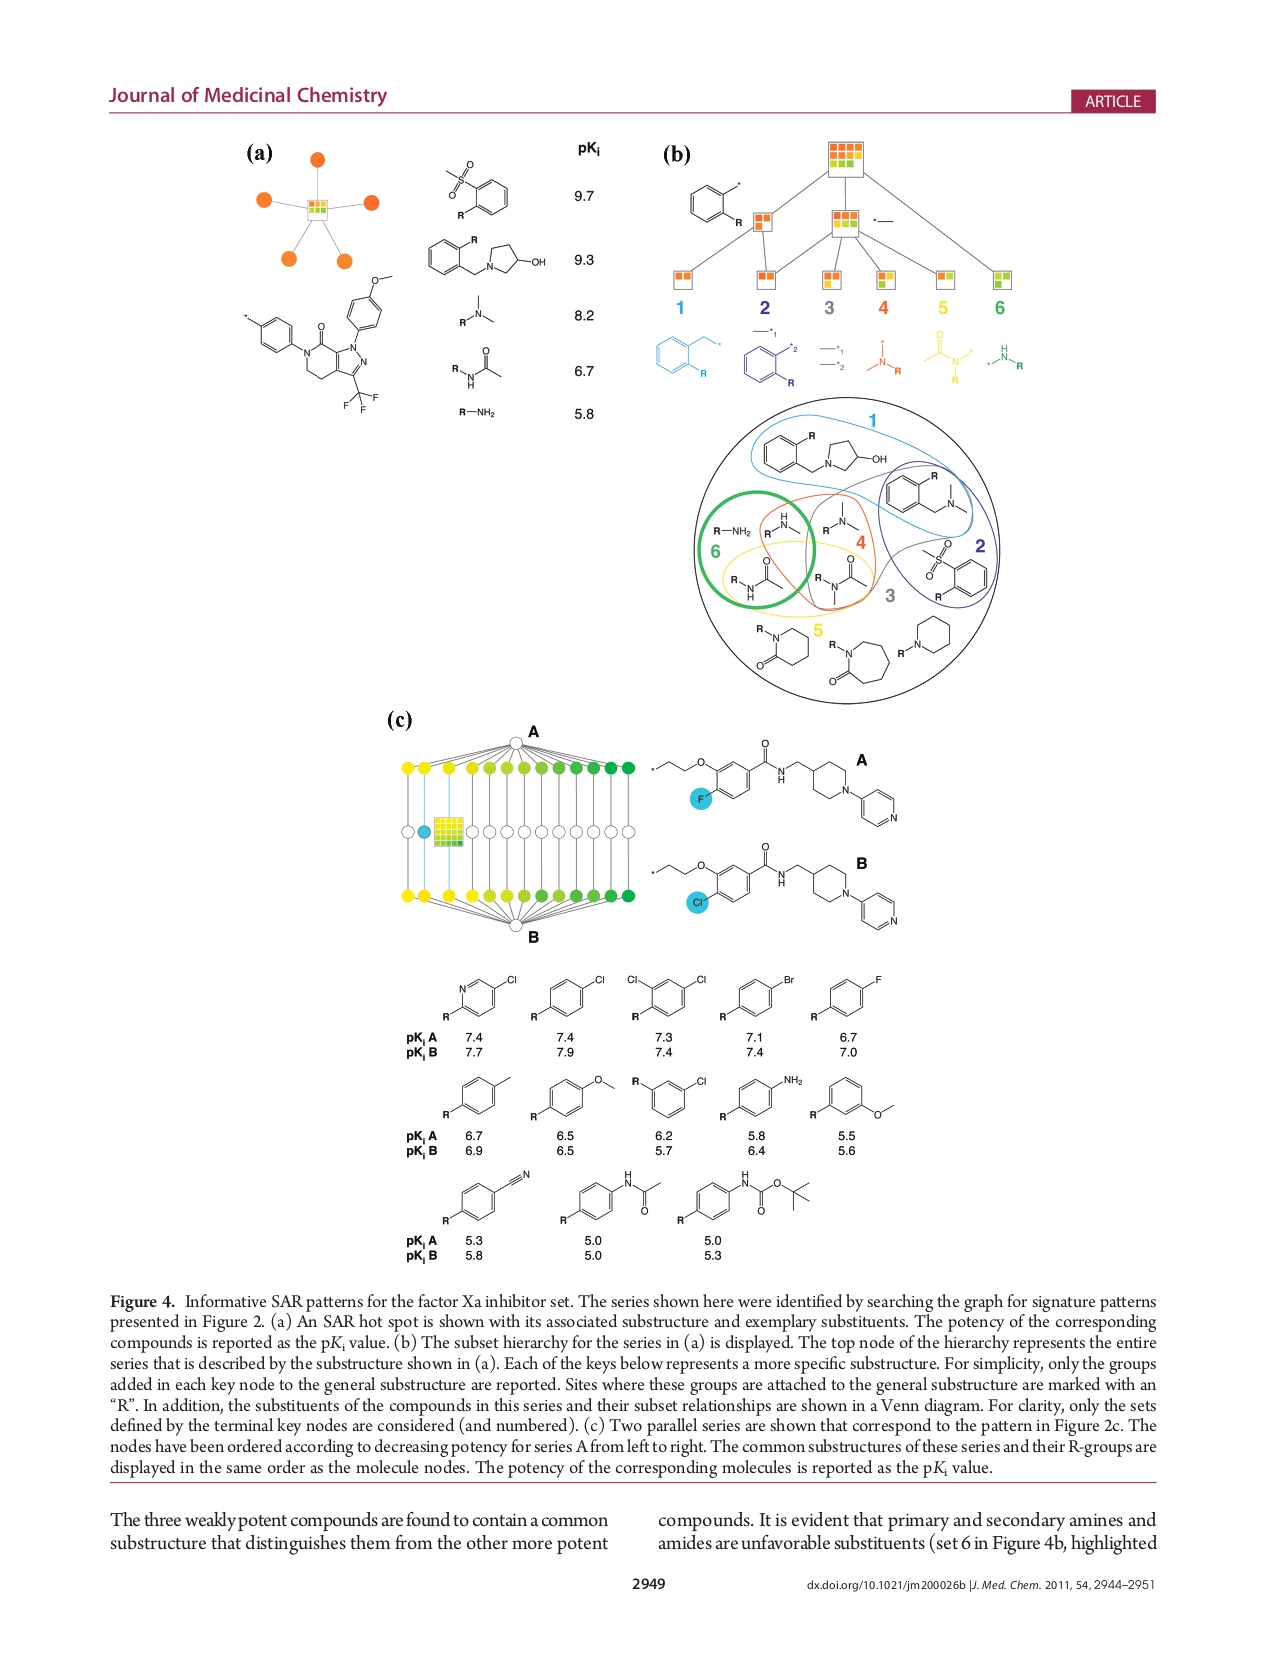exist_molecular: (648, 737, 902, 829), (650, 836, 900, 930), (241, 270, 398, 418), (676, 1169, 814, 1227), (555, 1169, 665, 1229), (422, 231, 551, 279), (430, 154, 516, 223), (762, 428, 890, 473), (436, 1168, 535, 1226), (622, 968, 709, 1023), (527, 969, 609, 1025), (919, 537, 989, 602), (805, 1075, 898, 1124), (528, 1071, 616, 1122), (717, 1071, 803, 1122), (717, 969, 799, 1023), (807, 968, 884, 1024), (440, 971, 519, 1023), (883, 469, 969, 516), (743, 618, 813, 676), (626, 1071, 709, 1118), (438, 1069, 512, 1118), (824, 636, 892, 689), (811, 551, 872, 606), (894, 610, 953, 662), (685, 180, 747, 227), (729, 553, 785, 602), (445, 346, 504, 391), (455, 286, 497, 330), (821, 497, 860, 537), (762, 508, 801, 539), (449, 403, 501, 423), (711, 521, 751, 541)
